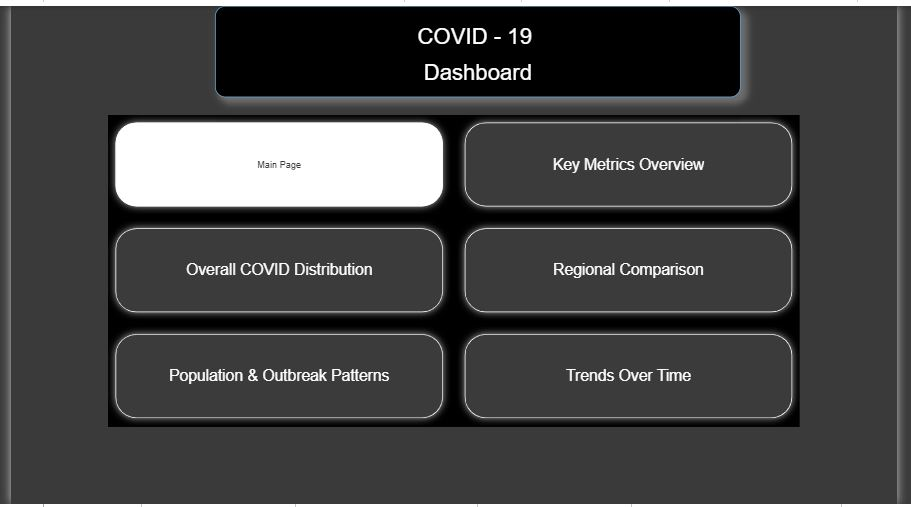

The page's visual inventory and layout, read from the dashboard file:
{"tool":"powerbi","page":{"name":"Main Page","canvas":[1280,720],"ordinal":0},"visuals":[{"type":"pageNavigator","box":[140,156.9,1000,450.8],"z":0},{"type":"textbox","box":[295.4,0,760,132.3],"z":1000}]}

Visuals, with their boxes in screenshot pixels (x1, y1, x2, y2), scaled from the page's 1280x720 canvas onto the 911x507 screenshot:
pageNavigator: x1=100 y1=110 x2=811 y2=428
textbox: x1=210 y1=0 x2=751 y2=93
